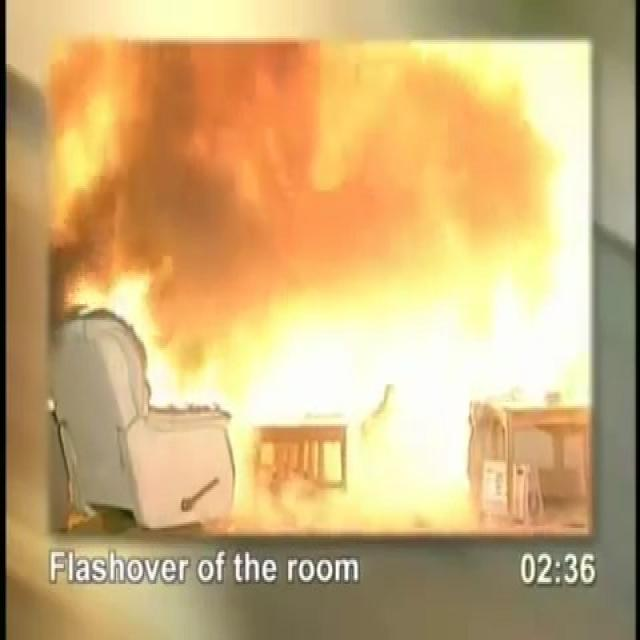Fire: (148, 188, 370, 404)
